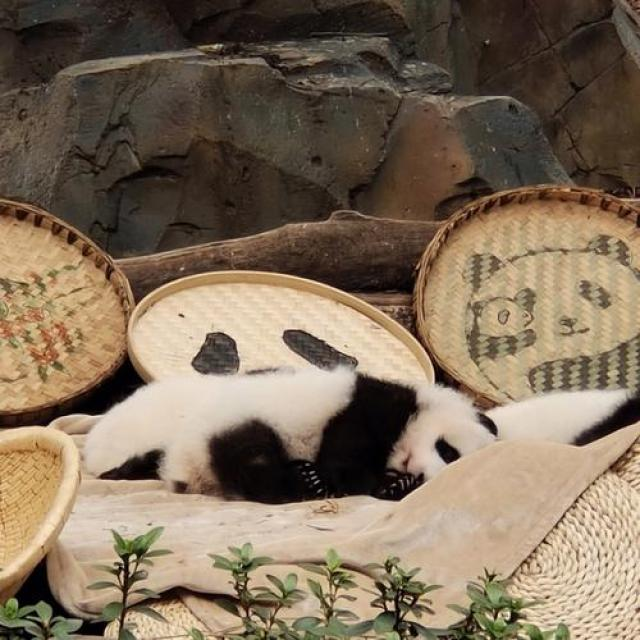panda: (58, 311, 633, 563)
